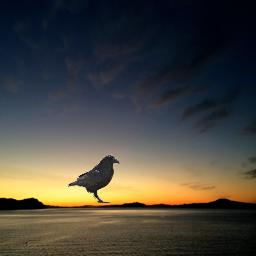Crow: (67, 154, 120, 203)
